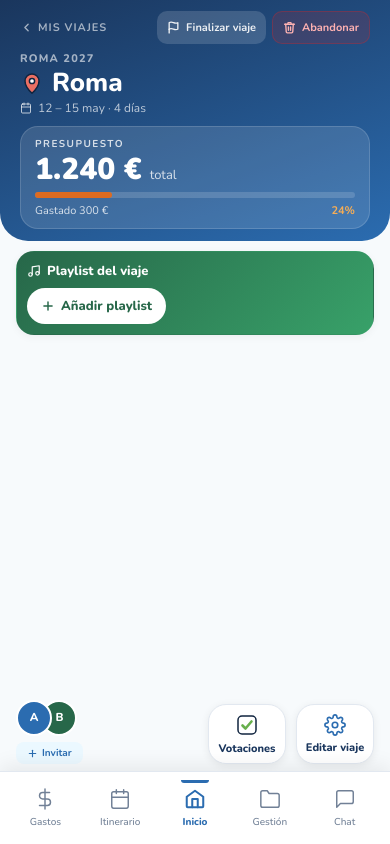
Scenario: InicioViaje · finalizar viaje con confirmación › si el backend no lo finaliza muestra el error en el diálogo
What coordinates should you click on to do the following:
click the button "Finalizar viaje"
I would click on:
 (212, 28)
Its box is [157, 11, 266, 44].
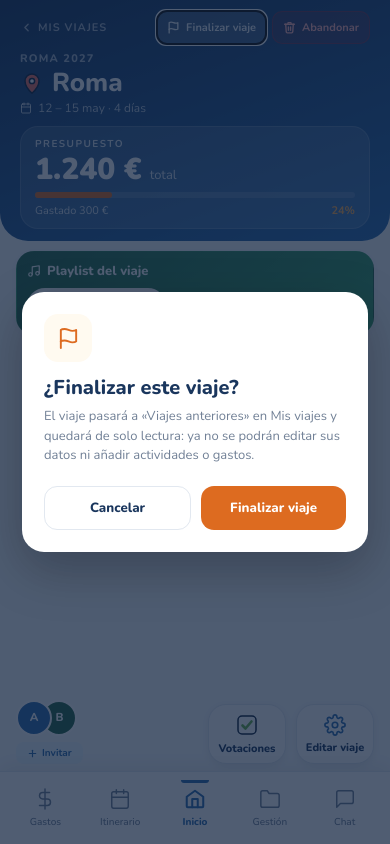
What coordinates should you click on to do the following:
click the button "Finalizar viaje"
I would click on:
 (274, 508)
Its box is [201, 486, 346, 530].
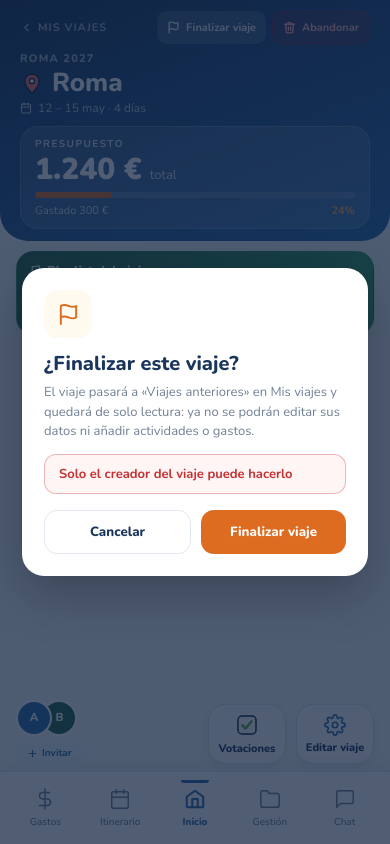
Expected: the message reads "Solo el creador del viaje puede hacerlo", [59, 465, 293, 483]
